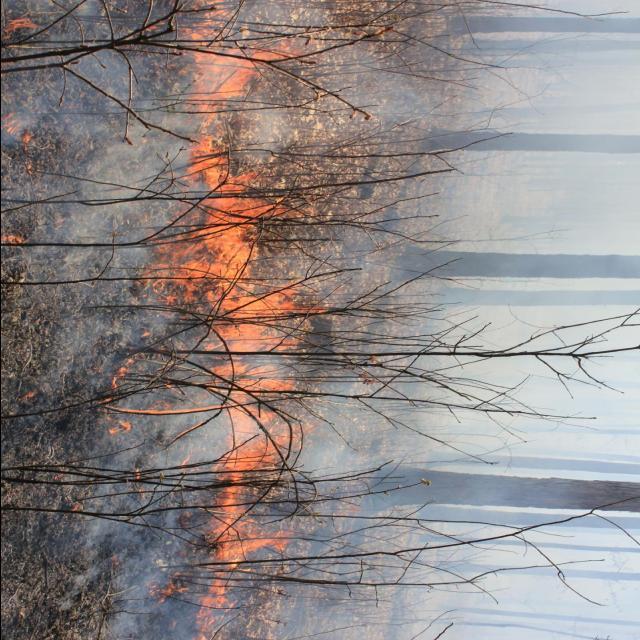Fire: (157, 34, 310, 638)
